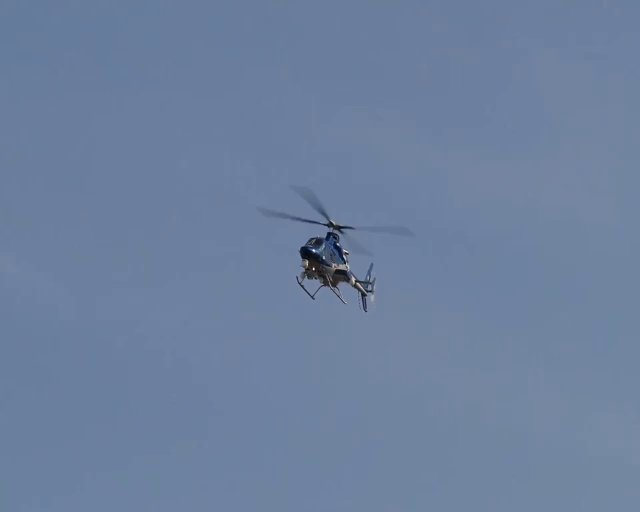HELICOPTER: (255, 184, 416, 312)
